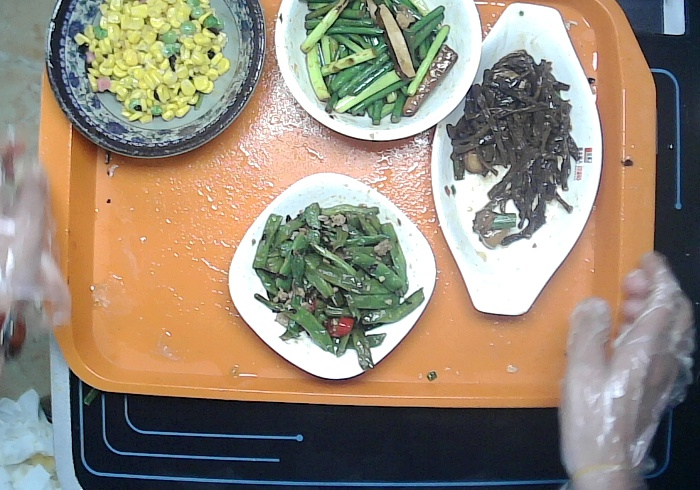ZNLD-Qing_Hua_Wan: (45, 1, 266, 157)
ZNLD-Si_Fang_Wan: (227, 170, 437, 380)
ZNLD-Tang_Wan: (272, 1, 485, 143)
ZNLD-Yu_Pan: (430, 1, 602, 317)
